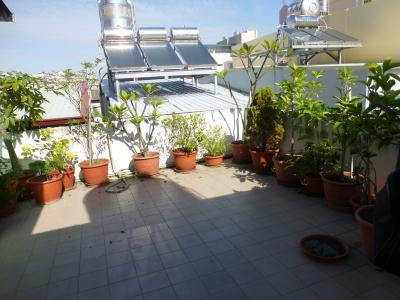bowl: (298, 233, 350, 264)
plate: (173, 165, 197, 173)
water_tower: (97, 1, 135, 29), (286, 1, 318, 15)
